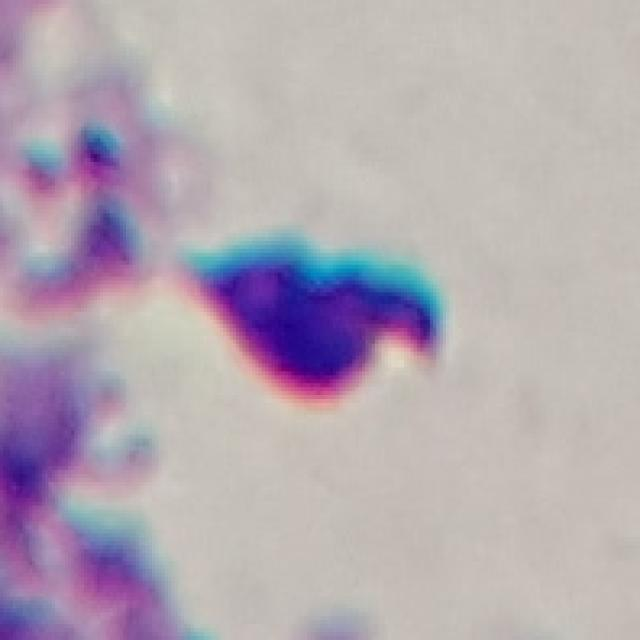non-sperm: (182, 232, 448, 411)
